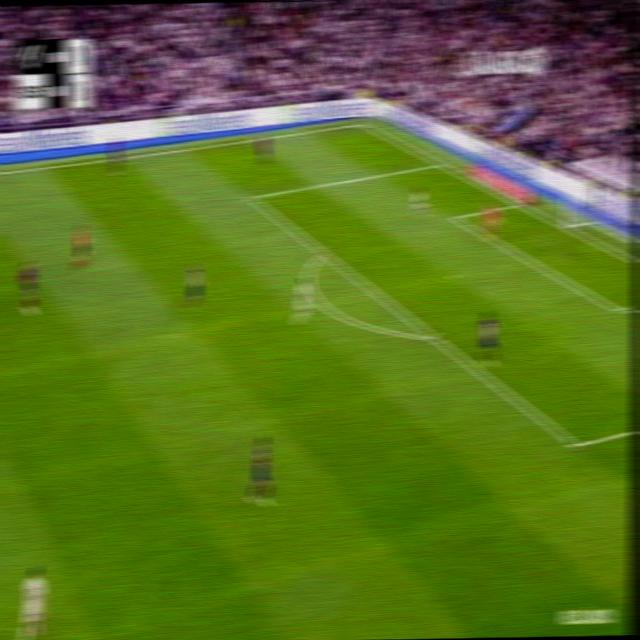bigarea_bottom_inner: (568, 432, 584, 458)
bigarea_top_inner: (245, 188, 258, 204)
bigarea_top_outter: (434, 156, 446, 169)
bottom_arc_area_intersection: (426, 326, 442, 346)
corner: (354, 116, 369, 128)
smallarea_bottom_inner: (616, 302, 630, 322)
smallarea_top_inner: (450, 212, 459, 222)
top_arc_area_intersection: (317, 242, 330, 261)
